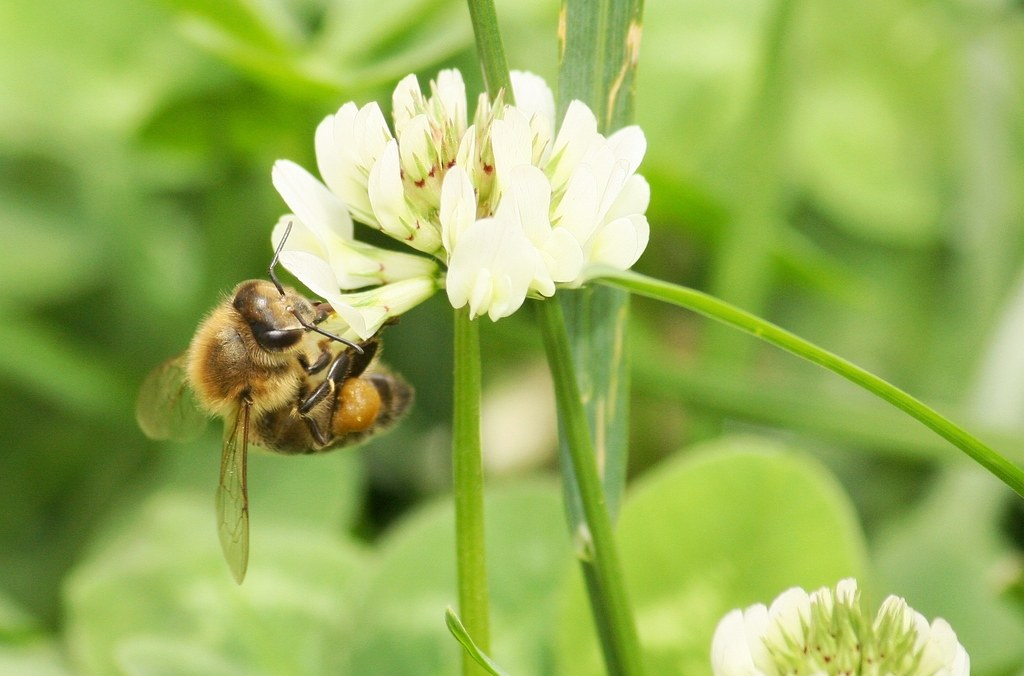bee: (163, 270, 392, 545)
insect: (269, 67, 650, 323), (719, 590, 938, 676)
